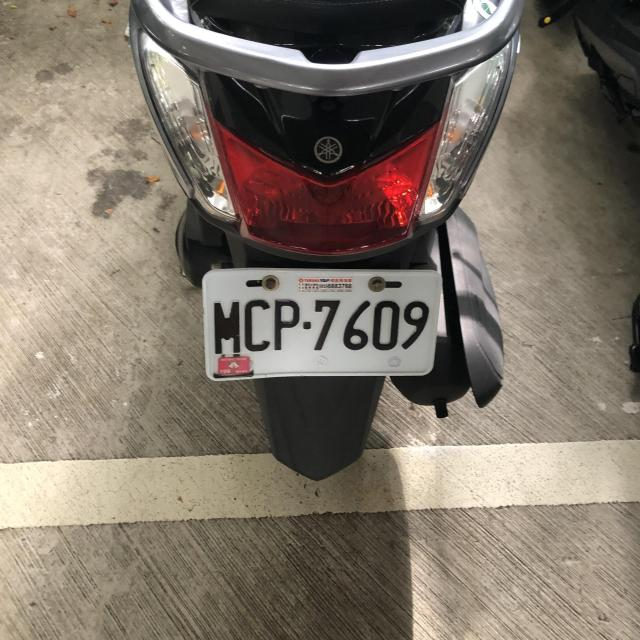W: (199, 261, 440, 382)
